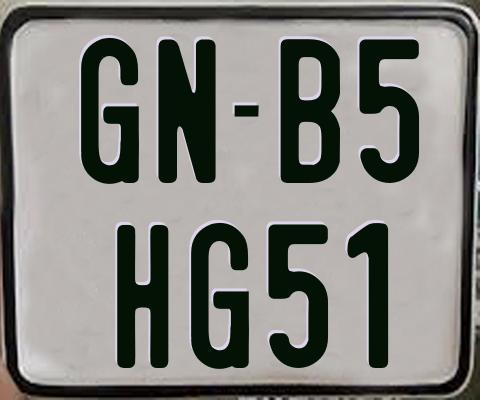1: (346, 223, 391, 372)
5: (268, 221, 330, 370), (358, 37, 419, 183)
B: (280, 39, 339, 184)
G: (80, 38, 144, 189), (189, 221, 249, 368)
H: (115, 224, 172, 371)
N: (155, 36, 218, 182)
